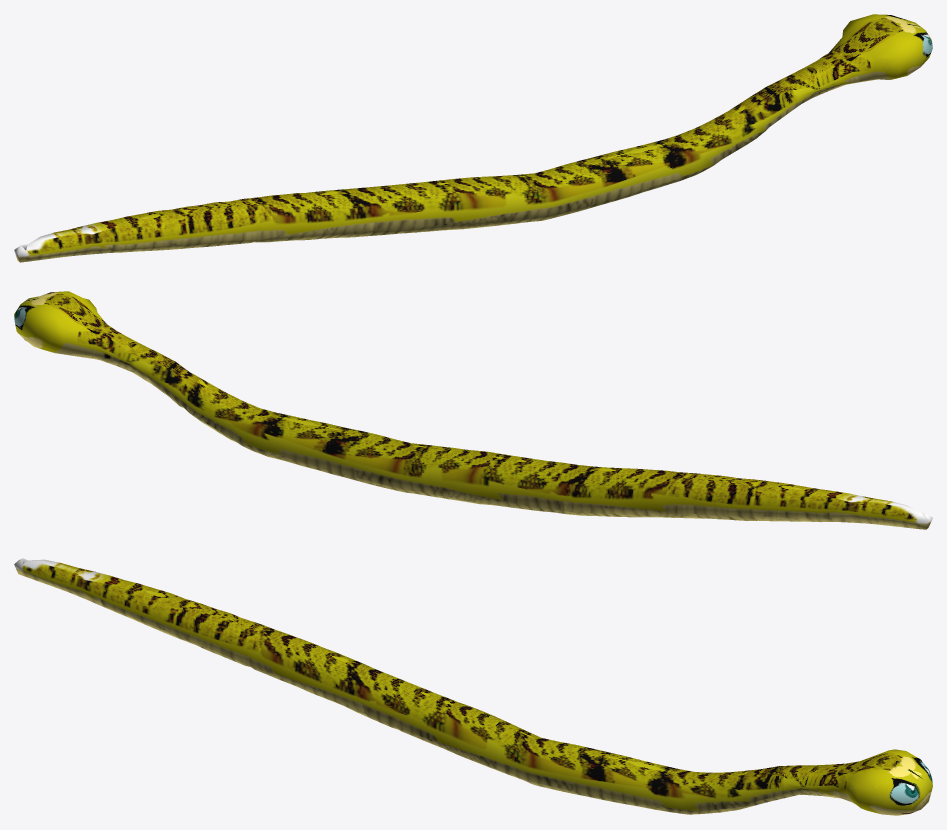
File: snake_aug_4.obj
3 views of the same model, one above another, from view 1: azimuth 30°, elevation 25°; view 2: azimuth 150°, elevation 25°; view 3: azimuth 330°, elevation 25° (orthographic).
Bounding box in the file's own units: 94.85 × 10.66 × 8.03.
Materials: 1 (1 with a texture image).
